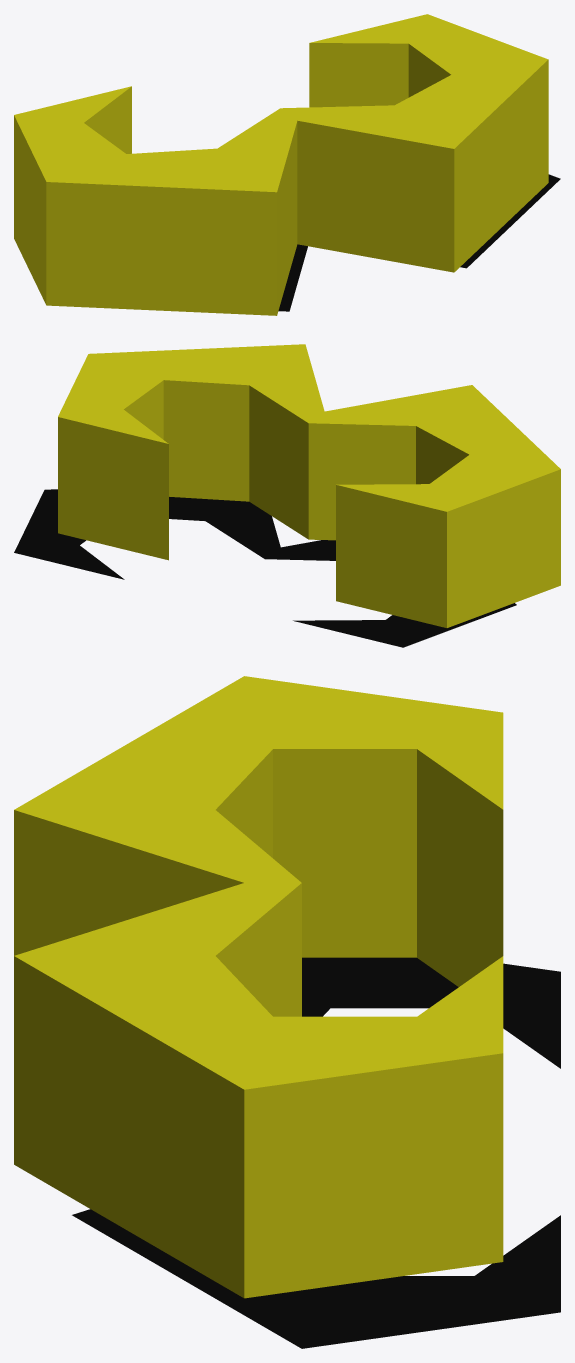
File: inv_unstrung_emblem.obj
3 views of the same model, one above another, from view 1: azimuth 30°, elevation 25°; view 2: azimuth 150°, elevation 25°; view 3: azimuth 270°, elevation 25° (orthographic). The views are drawn at different scales.
Bounding box in the file's own units: 0.2812 × 0.0703 × 0.1484.
